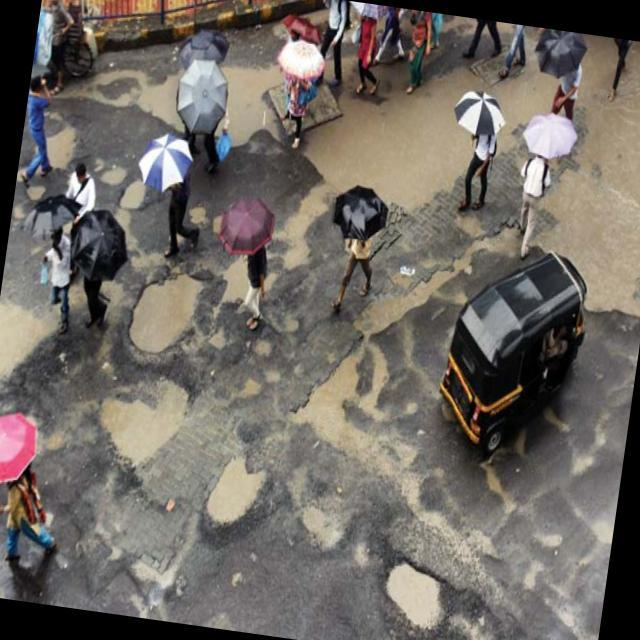Pothole: (19, 0, 640, 593), (82, 366, 208, 506), (127, 264, 219, 368), (0, 284, 68, 414), (198, 446, 268, 546), (375, 552, 458, 626), (17, 97, 84, 188), (285, 490, 360, 562), (112, 177, 154, 230), (24, 184, 61, 218), (178, 200, 214, 234), (91, 153, 128, 185), (205, 320, 229, 346)
